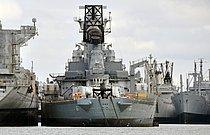MIL_Ship: (41, 4, 158, 127)
